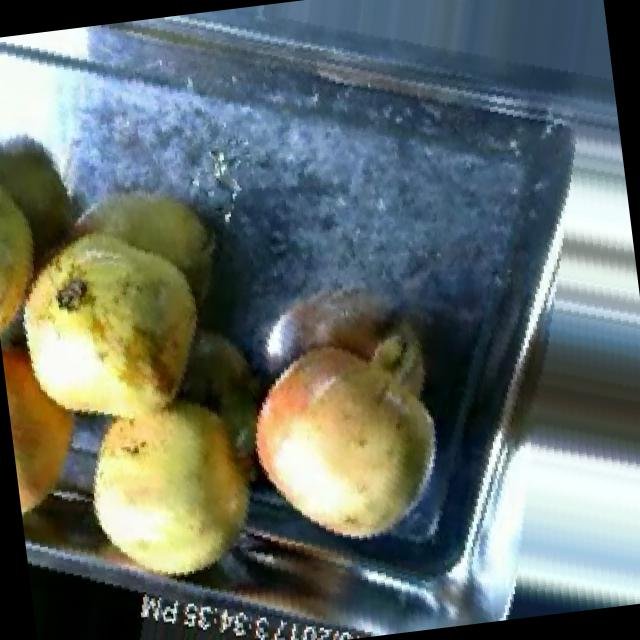fruit: (208, 300, 468, 582), (0, 191, 246, 467), (43, 370, 291, 618)
